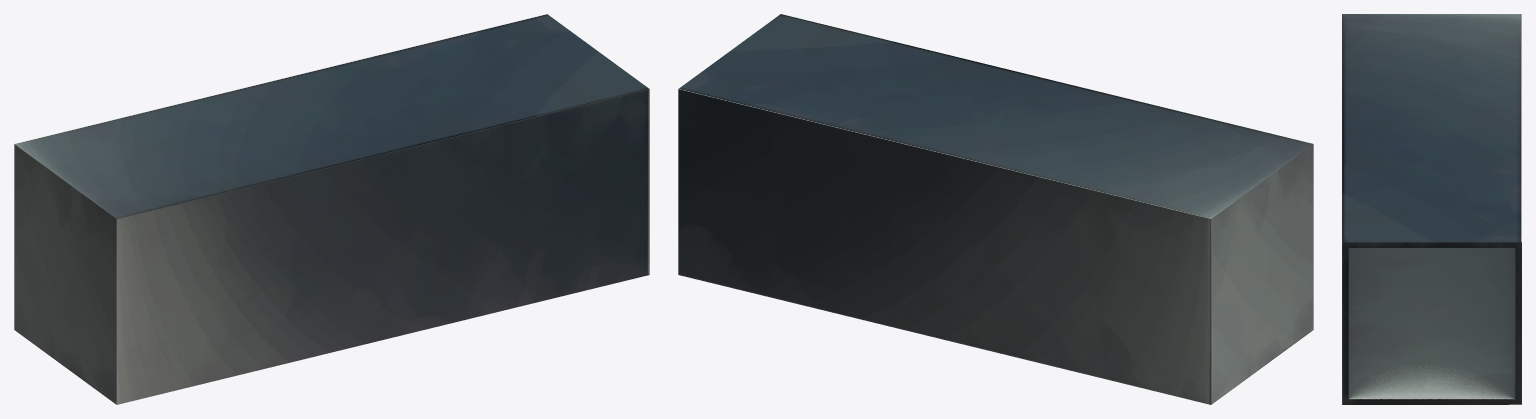
The model's file is Cell_I.fbx.
3 views of the same model, side by side, from view 1: azimuth 30°, elevation 25°; view 2: azimuth 150°, elevation 25°; view 3: azimuth 270°, elevation 25° (orthographic). The views are drawn at different scales.
Visible parts, largest first — view 1: Cube.005; view 2: Cube.005; view 3: Cube.005.
Part boxes in pixels (x1,y1,x2,y2): Cube.005: (14,14,649,404); Cube.005: (678,14,1313,404); Cube.005: (1342,14,1521,404).
Size of the model in its own units: 600 by 200 by 200.
